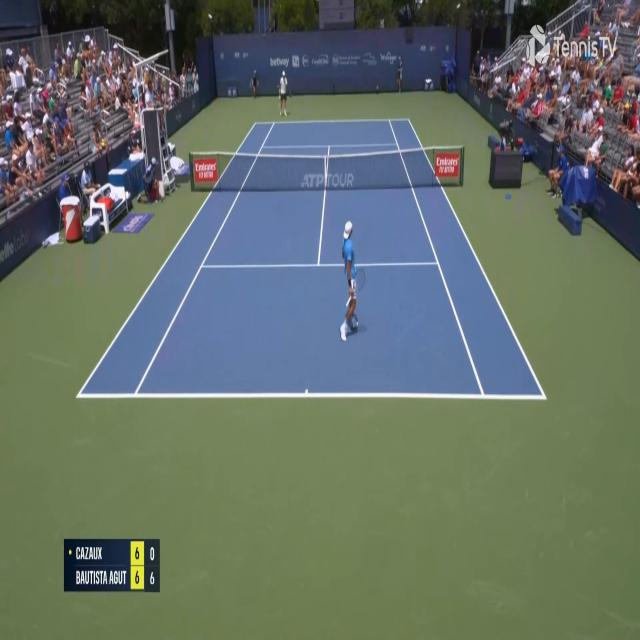tennis-player: (338, 218, 362, 344), (276, 69, 292, 116)
